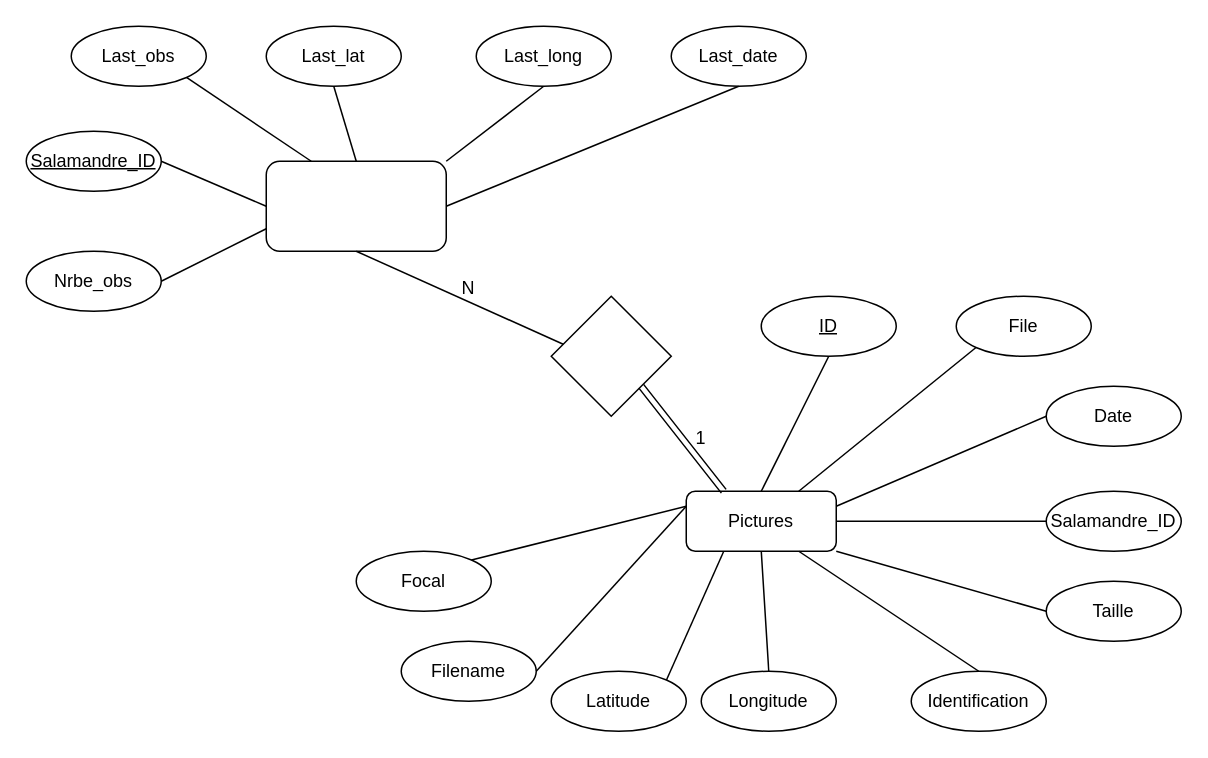
This 1208x758 diagram has some shape labels left out. The shapes that lost their labels are listed below. From the top down, each one's centre as x and y in pixels, then its label:
the point at 355,205: Salamandre
the point at 610,355: Is on
